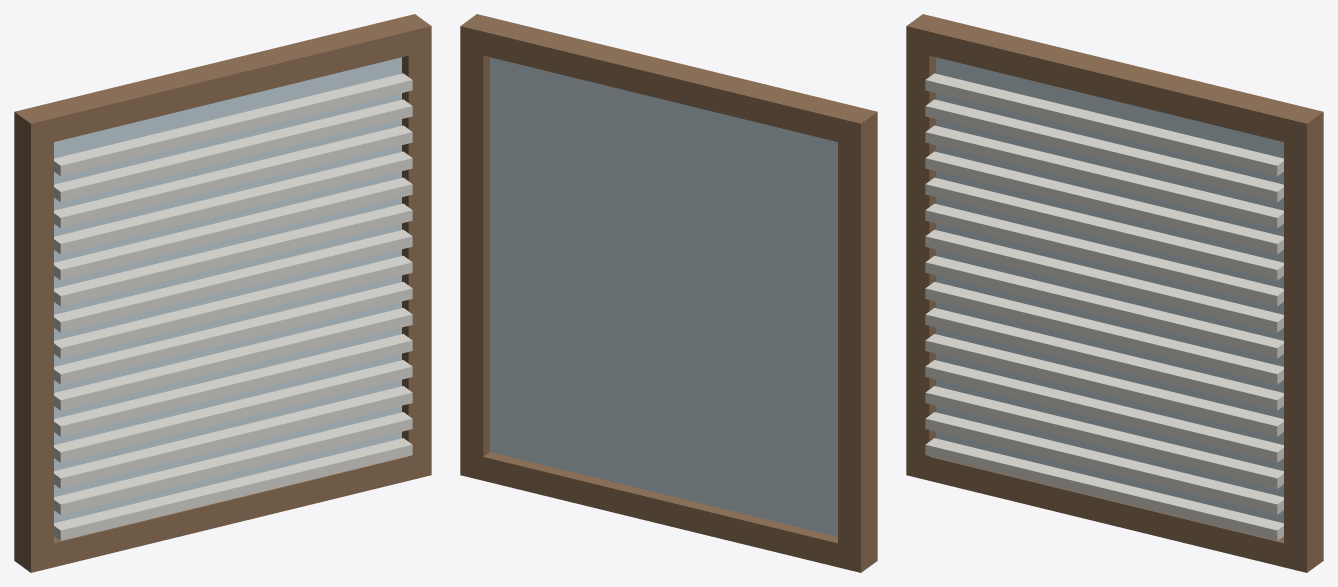
Rendered from bank-vault-heist-kit-blinds-window-5f80ec38__25097.glb.
3 views of the same model, side by side, from view 1: azimuth 30°, elevation 25°; view 2: azimuth 150°, elevation 25°; view 3: azimuth 330°, elevation 25° (orthographic).
Parts seen in each view (by area): view 1: blinds-window; view 2: blinds-window; view 3: blinds-window.
Part boxes in pixels (x1,y1,x2,y2): blinds-window: (14,14,431,572); blinds-window: (460,14,877,572); blinds-window: (906,14,1323,572).
Bounding box in the file's own units: 1.4 × 1.5 × 0.1325.
